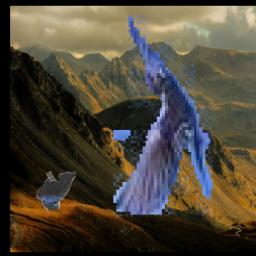Crow: (37, 171, 77, 210)
Swallow: (113, 16, 212, 219)
